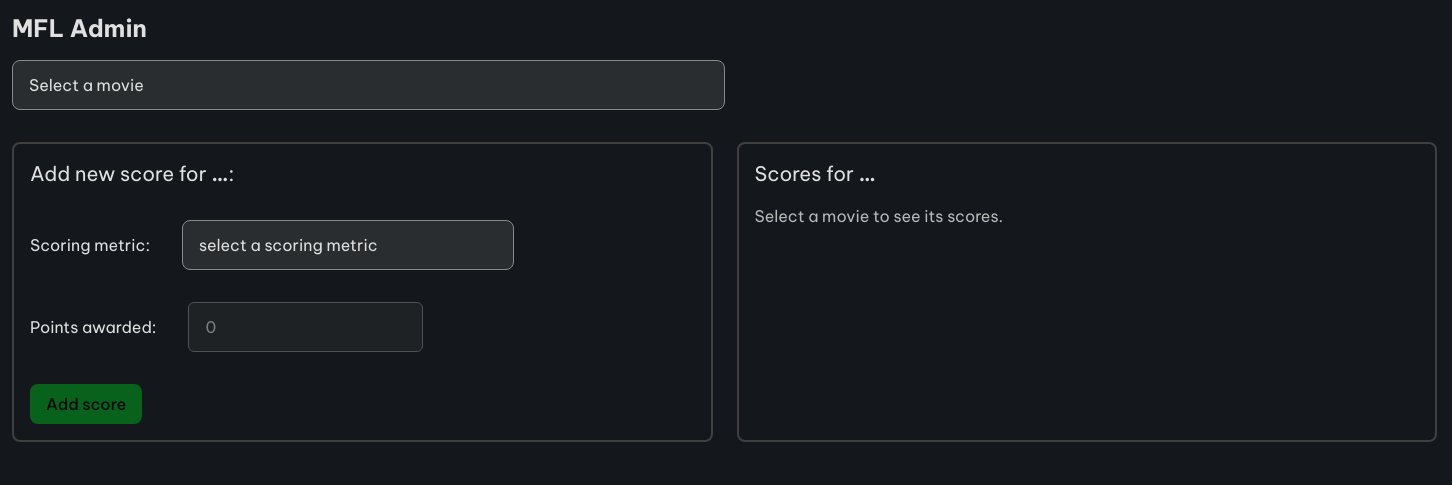
MFL admin score management › offers Delete on every score row, including customizable metrics
Select "Anora" in the dropdown named "select a movie" at {"x": 368, "y": 85}, box 12,60 -> 724,110
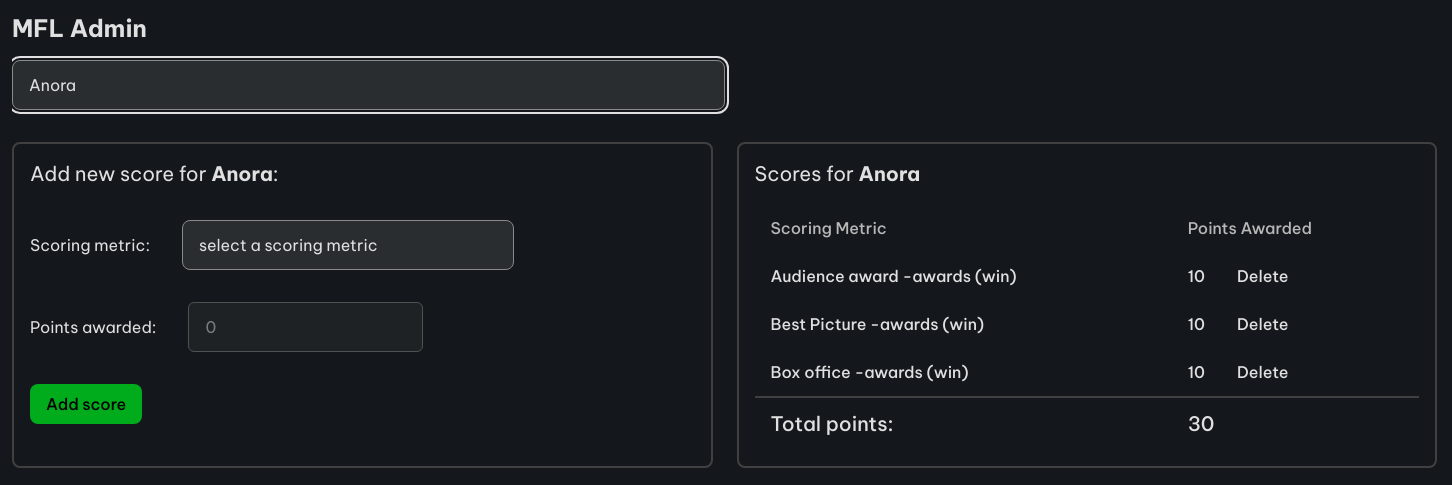
Expected: the table is shown, 754,204 -> 1419,450
Expected: the number of buttons "Delete" is 3, 1205,264 -> 1320,288; 1205,312 -> 1320,336; 1205,360 -> 1320,384
